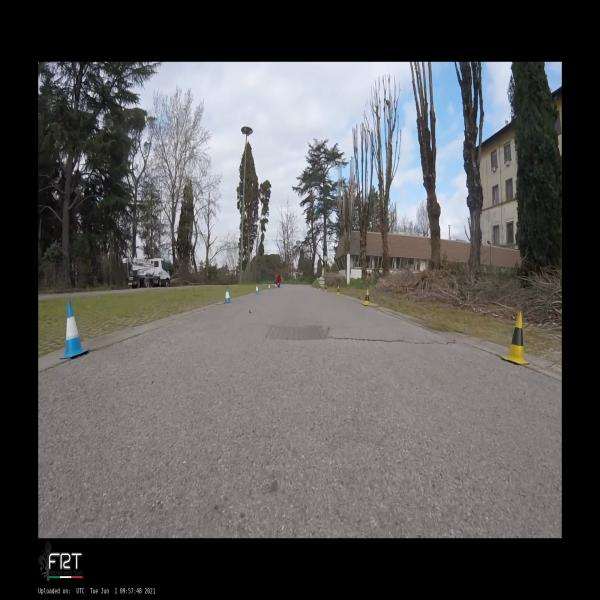blue_cone: (60, 301, 88, 359), (223, 286, 233, 304), (255, 284, 259, 294), (268, 283, 270, 289)
yellow_cone: (501, 311, 530, 365), (363, 289, 371, 306), (336, 286, 340, 295), (325, 285, 327, 291)
